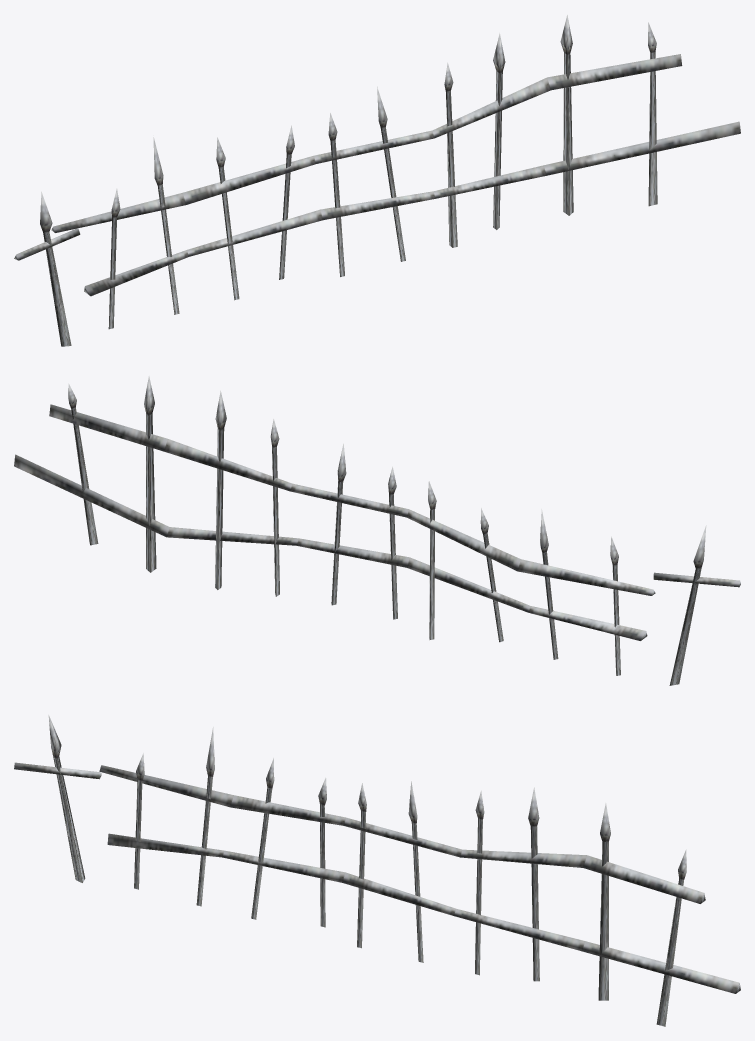
The model's file is S_Build_Snowland194.FBX.
3 renders of one model, top to bottom at view 1: azimuth 30°, elevation 25°; view 2: azimuth 150°, elevation 25°; view 3: azimuth 330°, elevation 25°, orthographic.
Visible parts, largest first — view 1: S_Build_Snowland194; view 2: S_Build_Snowland194; view 3: S_Build_Snowland194.
Boxes of the visible parts, left/top/right/bottom form: S_Build_Snowland194: left=14, top=15, right=740, bottom=346; S_Build_Snowland194: left=14, top=376, right=740, bottom=685; S_Build_Snowland194: left=14, top=715, right=740, bottom=1026.
Bounding box in the file's own units: 1742 × 137 × 453.
